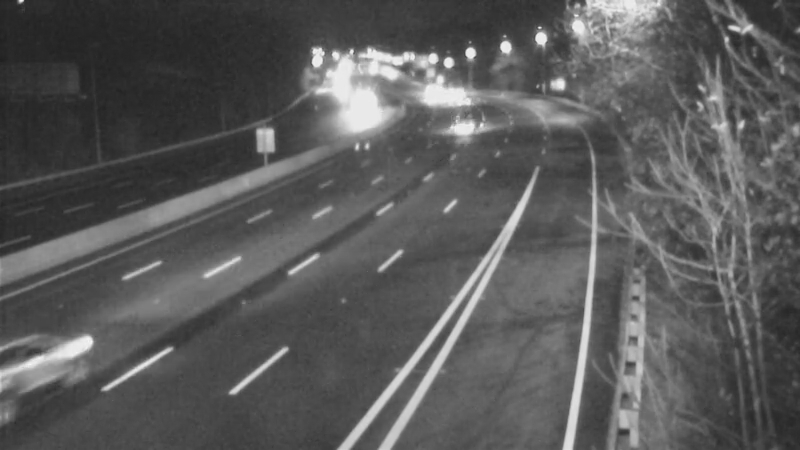vehicle: (1, 311, 102, 421), (403, 71, 453, 121), (429, 68, 479, 118), (439, 79, 489, 129), (445, 101, 495, 151), (330, 82, 380, 132)
